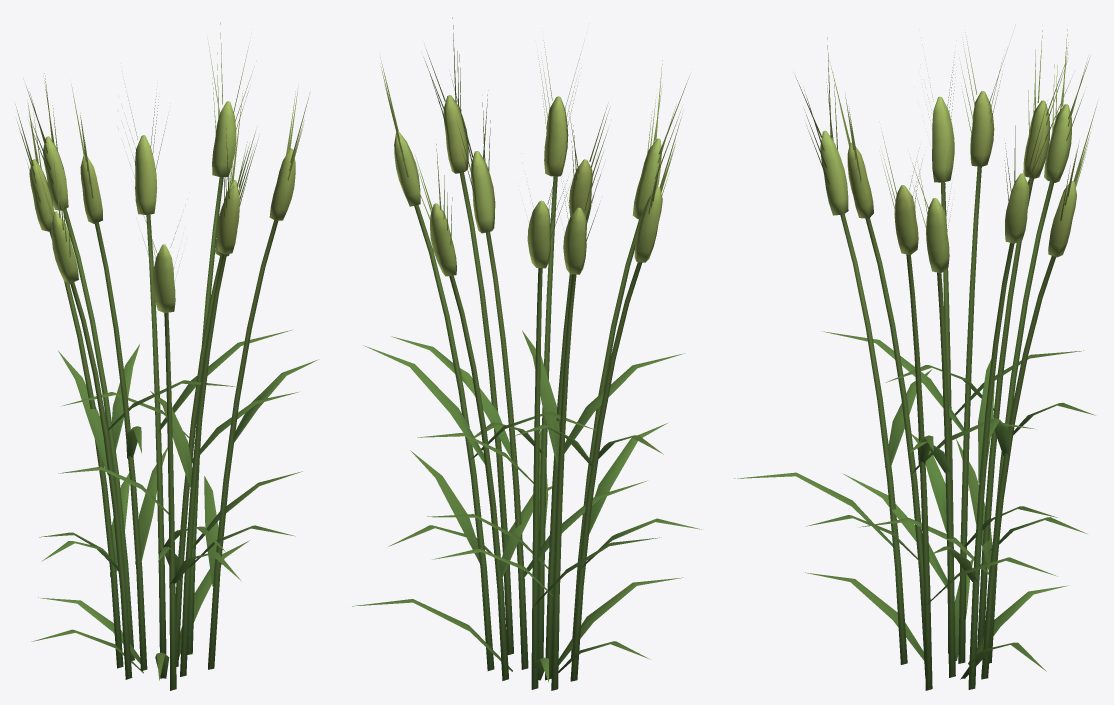
File: crop_grain_s2.glb
3 views of the same model, side by side, from view 1: azimuth 30°, elevation 25°; view 2: azimuth 150°, elevation 25°; view 3: azimuth 270°, elevation 25° (orthographic). The views are drawn at different scales.
Visible parts, largest first — view 1: Crop_Grain_S2; view 2: Crop_Grain_S2; view 3: Crop_Grain_S2.
Part boxes in pixels (<box>): Crop_Grain_S2: <box>15,22,318,690</box>; Crop_Grain_S2: <box>352,17,701,690</box>; Crop_Grain_S2: <box>734,25,1097,690</box>.
Bounding box in the file's own units: 0.4512 × 0.8813 × 0.467.
